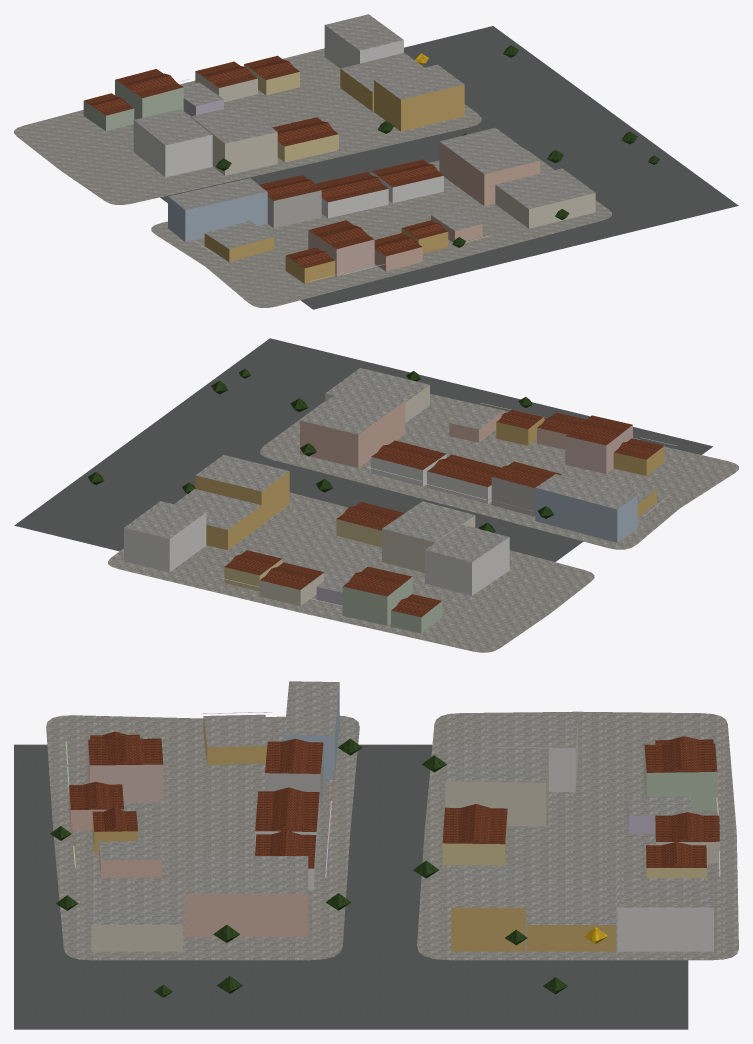
Rendered from cidade_S05_01_lod.gltf.
3 views of the same model, one above another, from view 1: azimuth 30°, elevation 25°; view 2: azimuth 150°, elevation 25°; view 3: azimuth 270°, elevation 25° (orthographic). The views are drawn at different scales.
Visible parts, largest first — view 1: S05_01_Chao_LOD2, S05_01_Edificios_LOD1, S05_01_Silhueta_LOD2, S05_01_Vegetacao_LOD2; view 2: S05_01_Chao_LOD2, S05_01_Edificios_LOD1, S05_01_Silhueta_LOD2, S05_01_Vegetacao_LOD2; view 3: S05_01_Chao_LOD2, S05_01_Edificios_LOD1, S05_01_Silhueta_LOD2, S05_01_Vegetacao_LOD2.
Part boxes in pixels (x1,y1,x2,y2): S05_01_Chao_LOD2: (14, 26, 738, 309); S05_01_Edificios_LOD1: (83, 14, 595, 283); S05_01_Silhueta_LOD2: (83, 55, 448, 282); S05_01_Vegetacao_LOD2: (216, 45, 659, 247); S05_01_Chao_LOD2: (14, 338, 738, 652); S05_01_Edificios_LOD1: (124, 368, 676, 633); S05_01_Silhueta_LOD2: (224, 410, 664, 633); S05_01_Vegetacao_LOD2: (88, 369, 553, 532); S05_01_Chao_LOD2: (14, 711, 738, 1029); S05_01_Edificios_LOD1: (65, 681, 720, 951); S05_01_Silhueta_LOD2: (69, 734, 719, 889); S05_01_Vegetacao_LOD2: (50, 738, 607, 997).
Size of the model in its own units: 111 by 7.37 by 108.
19 materials, 19 textured.
